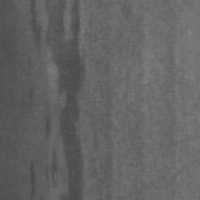inclusion: (43, 1, 88, 198), (23, 2, 45, 53)
